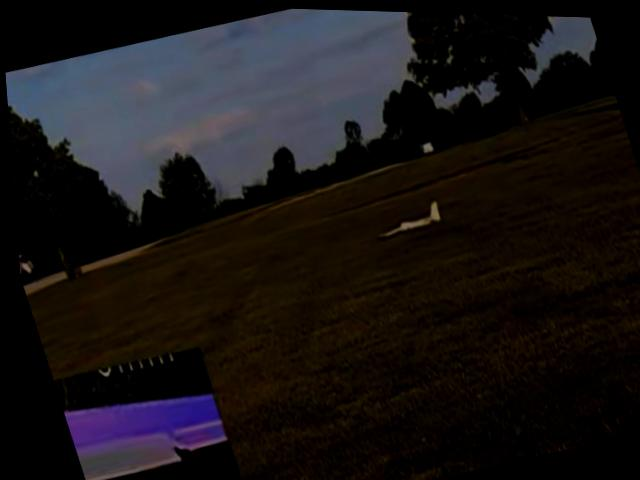iha: (367, 196, 442, 241)
